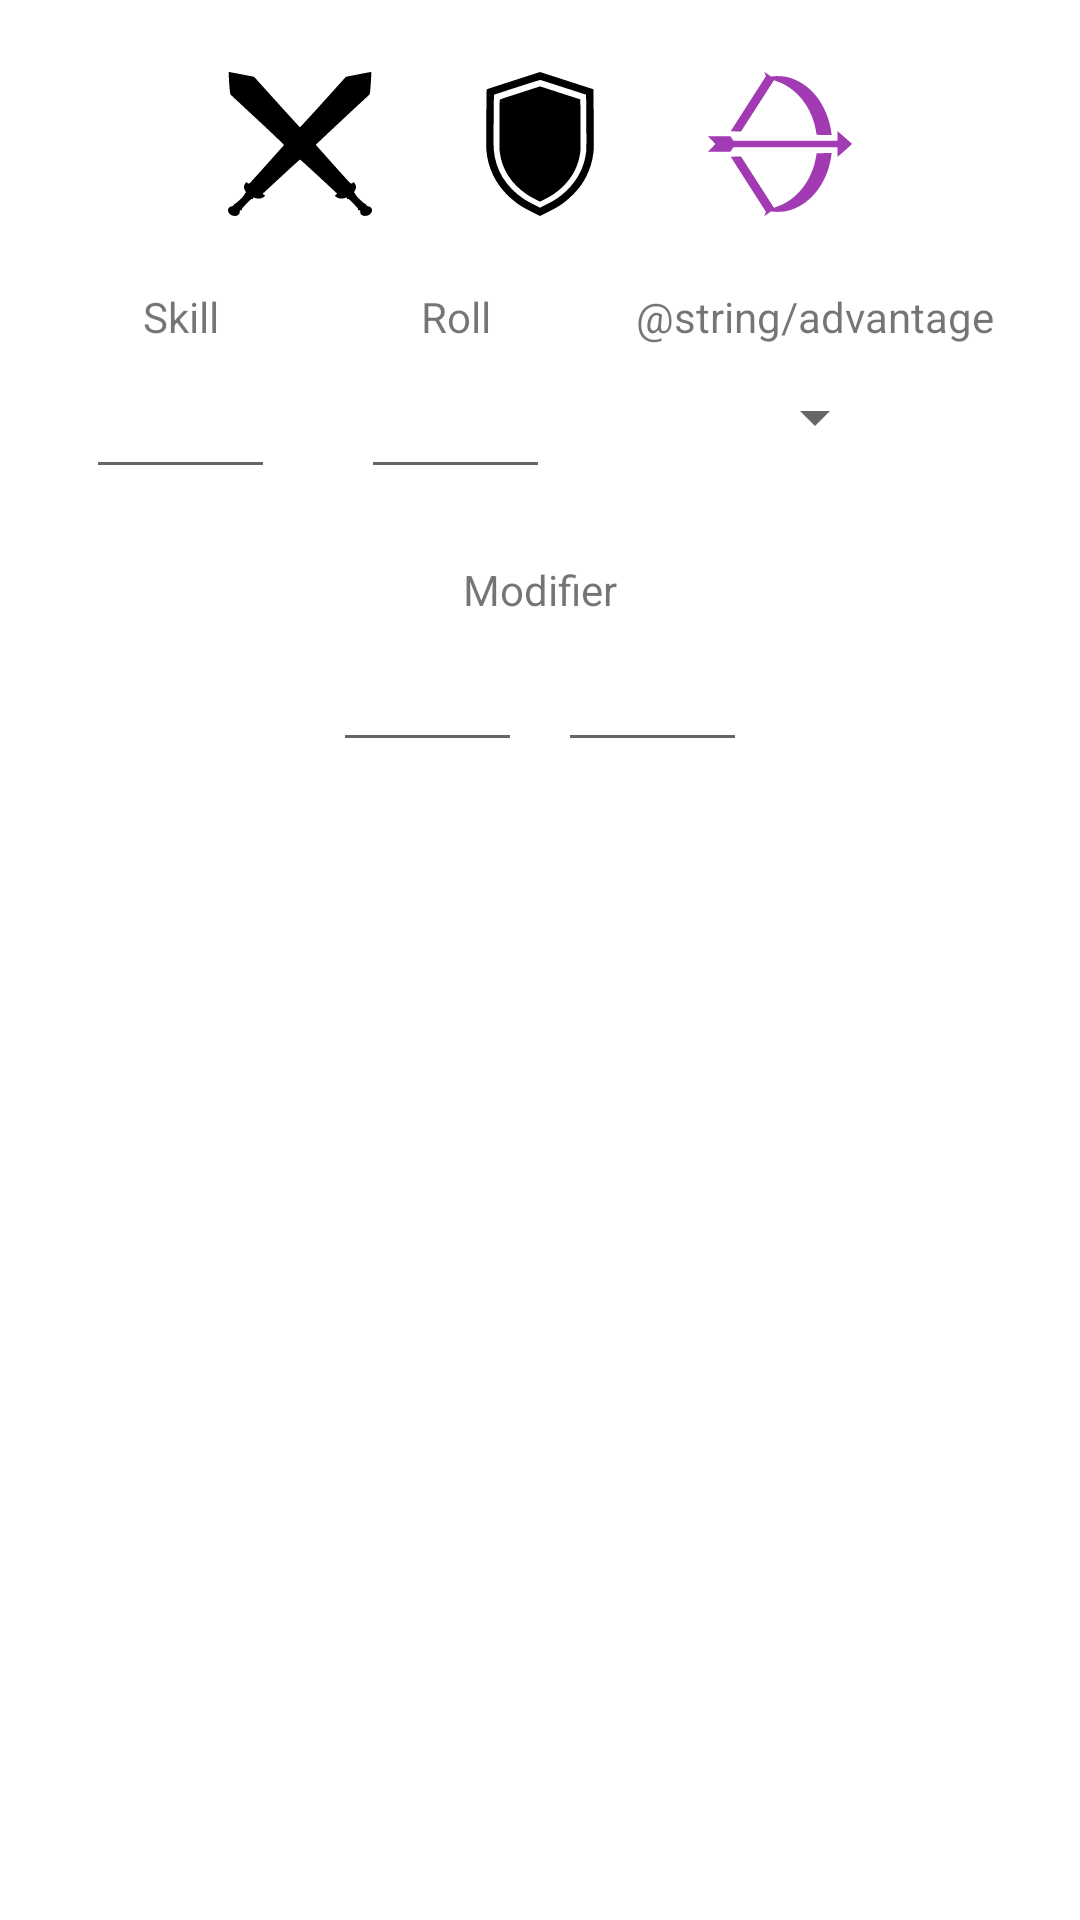

Where icons sit on this 1080*1920 app screen, as detection(x1, y1, x2, y2):
Bow: detection(708, 72, 852, 216)
Shield: detection(486, 72, 594, 216)
Sword: detection(228, 72, 372, 216)
